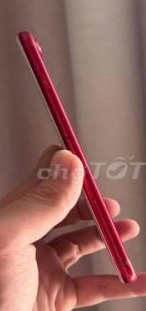scratch: (111, 249, 131, 266), (66, 136, 80, 154), (91, 194, 102, 208)
